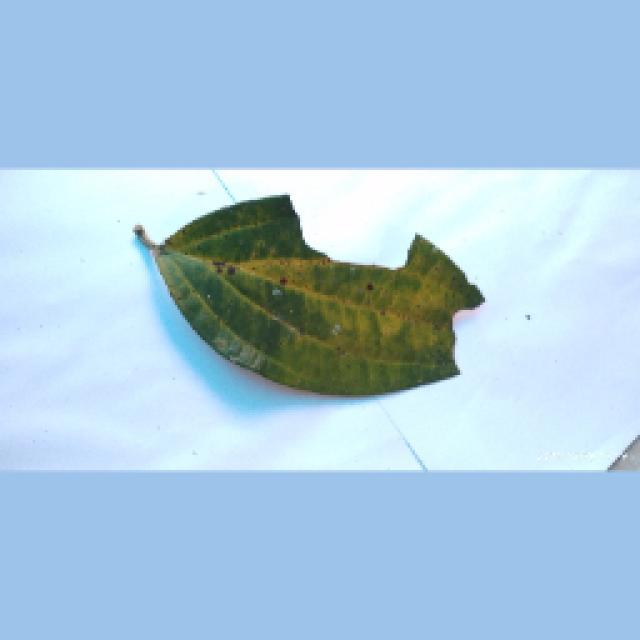slow-decline: (118, 185, 508, 440)
